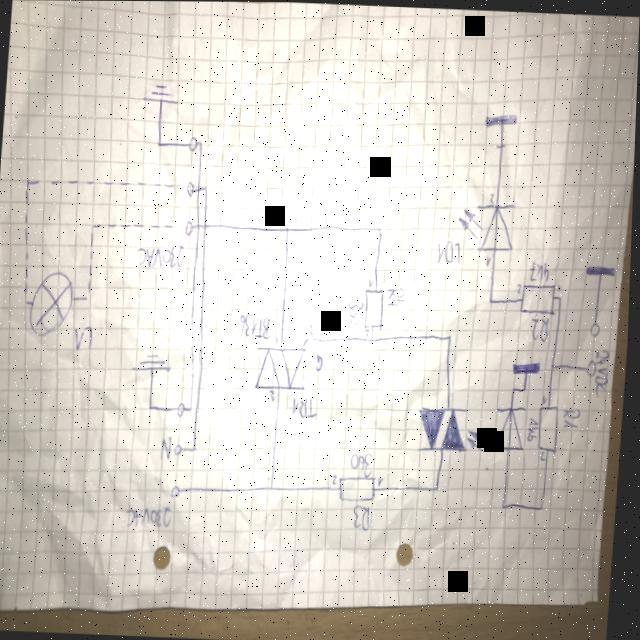crossover: (196, 185, 202, 193), (203, 222, 209, 229), (197, 222, 202, 230)
diode: (456, 200, 518, 254)
ground: (132, 350, 176, 374), (140, 82, 182, 105), (483, 110, 519, 129), (513, 358, 544, 376), (585, 262, 618, 278)
junction: (22, 290, 31, 305), (86, 289, 94, 301), (270, 483, 278, 493), (91, 223, 96, 235), (541, 503, 547, 511), (437, 484, 443, 492), (448, 332, 454, 340), (371, 334, 377, 342), (198, 138, 204, 146), (284, 225, 290, 232), (26, 177, 32, 184), (149, 403, 155, 410), (194, 445, 200, 452), (190, 405, 195, 413), (156, 141, 162, 147), (379, 225, 384, 232), (552, 361, 556, 369), (503, 503, 508, 509), (489, 298, 494, 304), (204, 184, 209, 190), (525, 385, 529, 391), (514, 386, 518, 392), (560, 294, 564, 300)
resistor: (538, 403, 563, 454), (520, 282, 558, 314), (340, 474, 380, 501), (364, 286, 386, 329)
terminal: (585, 358, 600, 376), (590, 319, 603, 337), (173, 484, 184, 499), (176, 442, 185, 456)
text: (135, 240, 187, 271), (127, 502, 175, 528), (239, 311, 275, 340), (594, 347, 614, 398), (436, 238, 464, 265), (292, 395, 322, 418), (351, 451, 377, 476), (73, 323, 96, 351), (354, 502, 376, 531), (531, 315, 552, 342), (529, 258, 552, 282), (386, 284, 408, 309), (563, 404, 584, 429), (348, 298, 366, 326), (162, 434, 175, 461), (529, 415, 542, 441), (316, 352, 326, 370), (310, 321, 318, 335), (270, 390, 279, 402), (334, 472, 341, 484), (486, 253, 493, 265), (490, 190, 497, 202), (518, 281, 524, 295), (541, 450, 549, 460), (544, 392, 550, 404), (369, 277, 376, 287), (365, 328, 372, 337), (380, 475, 386, 485), (276, 334, 282, 344), (558, 281, 564, 291)
